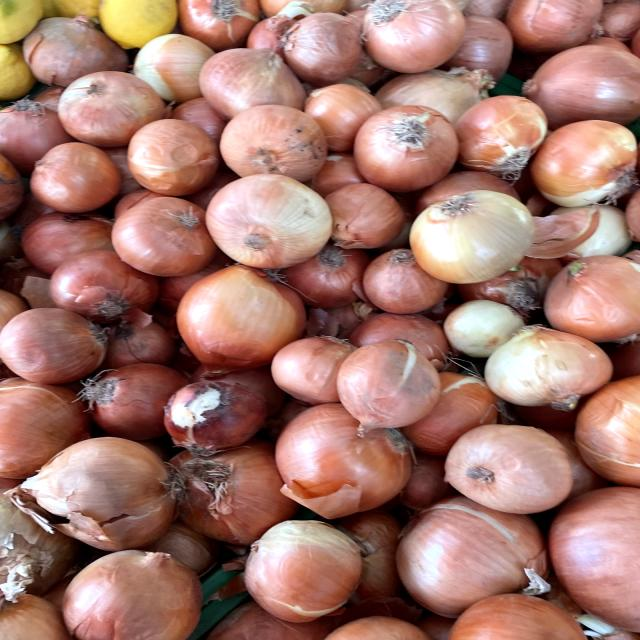onion: (164, 255, 320, 383), (397, 177, 551, 296), (234, 513, 378, 625), (436, 419, 589, 523), (196, 167, 343, 274), (474, 318, 622, 415), (332, 331, 445, 444), (0, 301, 125, 392), (97, 187, 223, 271), (354, 100, 462, 195), (211, 99, 340, 178), (54, 68, 170, 151), (356, 0, 472, 78), (19, 135, 137, 211)
